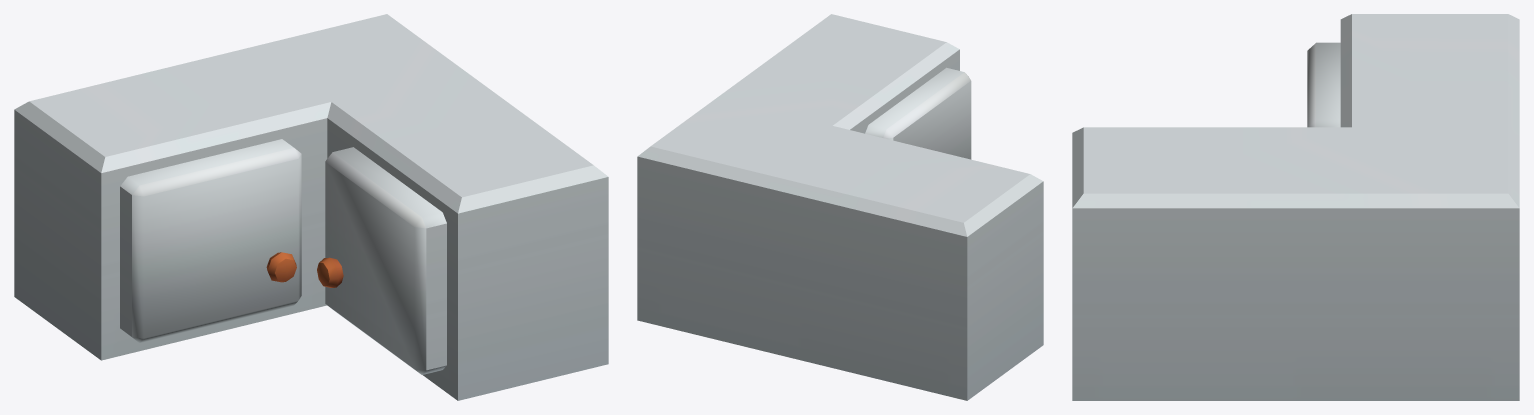
The model's file is kaykit-restaurant-bits-kitchencabinet-corner-half.glb.
3 renders of one model, left to right at view 1: azimuth 30°, elevation 25°; view 2: azimuth 150°, elevation 25°; view 3: azimuth 270°, elevation 25°, orthographic. The views are drawn at different scales.
Parts seen in each view (by area): view 1: kitchencabinet_corner_half; view 2: kitchencabinet_corner_half; view 3: kitchencabinet_corner_half.
Part boxes in pixels (<box>): kitchencabinet_corner_half: <box>14,14,608,400</box>; kitchencabinet_corner_half: <box>637,14,1043,400</box>; kitchencabinet_corner_half: <box>1072,14,1519,400</box>.
Size of the model in its own units: 2 by 1 by 2.
Materials: 1 (1 with a texture image).
